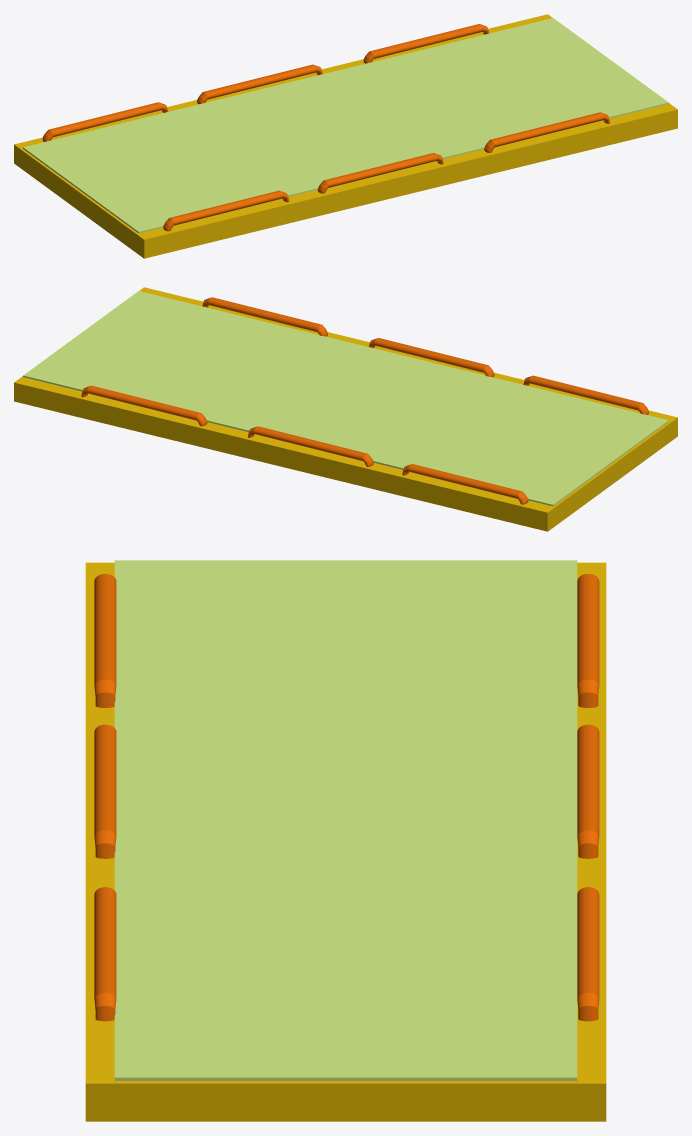
The model's file is moving platform long.fbx.
The picture shows the model from 3 angles, top to bottom: view 1: azimuth 30°, elevation 25°; view 2: azimuth 150°, elevation 25°; view 3: azimuth 270°, elevation 25°; orthographic projection. The views are drawn at different scales.
Parts seen in each view (by area): view 1: Cube.001, Cube, Cylinder, Cylinder.002, Cylinder.004, Cylinder.001, Cylinder.003, Cylinder.005; view 2: Cube.001, Cube, Cylinder.001, Cylinder.004, Cylinder.002, Cylinder.005, Cylinder.003, Cylinder; view 3: Cube.001, Cube, Cylinder.005, Cylinder.003, Cylinder.002, Cylinder.004, Cylinder.001, Cylinder.
Part boxes in pixels (x1,y1,x2,y2): Cube.001: [23, 18, 668, 233]; Cube: [14, 14, 677, 258]; Cylinder: [163, 190, 289, 231]; Cylinder.002: [317, 153, 443, 193]; Cylinder.004: [484, 112, 609, 152]; Cylinder.001: [42, 102, 168, 141]; Cylinder.003: [197, 64, 322, 104]; Cylinder.005: [363, 24, 489, 63]; Cube.001: [23, 291, 668, 506]; Cube: [14, 287, 677, 531]; Cylinder.001: [402, 464, 528, 504]; Cylinder.004: [202, 297, 327, 336]; Cylinder.002: [369, 338, 494, 377]; Cylinder.005: [81, 385, 207, 426]; Cylinder.003: [248, 426, 373, 466]; Cylinder: [523, 375, 648, 414]; Cube.001: [114, 560, 577, 1080]; Cube: [85, 562, 606, 1121]; Cylinder.005: [577, 887, 599, 1021]; Cylinder.003: [577, 724, 599, 858]; Cylinder.002: [94, 724, 116, 858]; Cylinder.004: [94, 887, 116, 1021]; Cylinder.001: [577, 573, 599, 707]; Cylinder: [94, 573, 116, 707].
Size of the model in its own units: 2367 by 125 by 1000.
